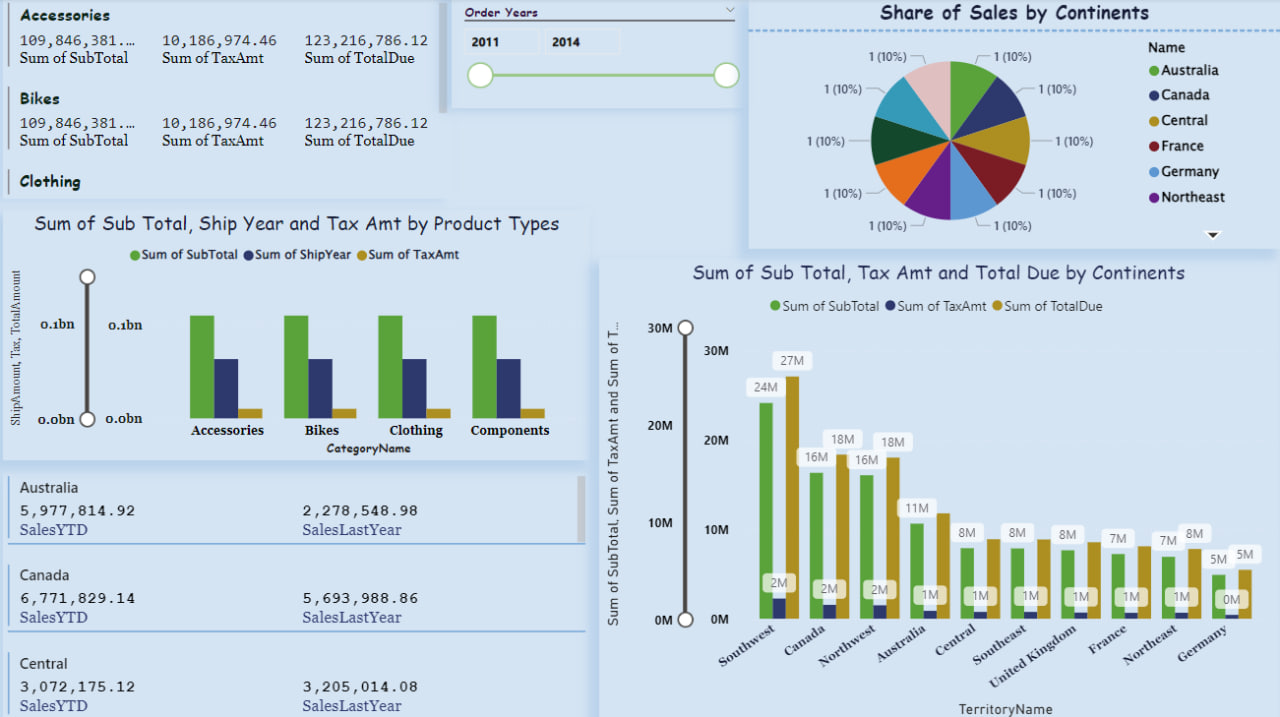

The page's visual inventory and layout, read from the dashboard file:
{"tool":"powerbi","page":{"name":"Product by Continent","canvas":[1280,720],"ordinal":2},"visuals":[{"type":"multiRowCard","fields":{"Values":["ProductCategories.CategoryName","Sum(SalesOrderAnalysis.SubTotal)","Sum(SalesOrderAnalysis.TaxAmt)","Sum(SalesOrderAnalysis.TotalDue)"]},"box":[9.7,0,446.4,200.3],"z":0},{"type":"slicer","fields":{"Values":["SalesOrderAnalysis.OrderYear"]},"box":[456,0,294.4,109.8],"z":1000},{"type":"lineClusteredColumnComboChart","title":"Sum of Sub Total, Ship Year and Tax Amt by Product Types","fields":{"Category":["ProductCategories.CategoryName"],"Y":["Sum(SalesOrderAnalysis.SubTotal)","Sum(SalesOrderAnalysis.ShipYear)","Sum(SalesOrderAnalysis.TaxAmt)"]},"box":[9.7,209.9,583.9,249.7],"z":2000},{"type":"pieChart","title":"Share of Sales by Continents","fields":{"Y":["CountNonNull(TerritorySalesData.SalesLastYear)"],"Category":["TerritorySalesData.Name"]},"box":[750.4,0,529.6,249.7],"z":3000},{"type":"multiRowCard","fields":{"Values":["TerritorySalesData.Name","TerritorySalesData.SalesYTD","TerritorySalesData.SalesLastYear"]},"box":[9.7,470.5,583.9,249.7],"z":4000},{"type":"lineClusteredColumnComboChart","title":"Sum of Sub Total, Tax Amt and Total Due by Continents","fields":{"Category":["SalesOrderAnalysis.TerritoryName"],"Y":["Sum(SalesOrderAnalysis.SubTotal)","Sum(SalesOrderAnalysis.TaxAmt)","Sum(SalesOrderAnalysis.TotalDue)"]},"box":[603.2,259.4,674.4,460.9],"z":5000}]}

Visuals, with their boxes in screenshot pixels (x1, y1, x2, y2), scaled from the page's 1280x720 canvas onto the 1280x717 screenshot:
multiRowCard - ProductCategories.CategoryName x Sum(SalesOrderAnalysis.SubTotal): Rect(10, 0, 456, 199)
slicer - SalesOrderAnalysis.OrderYear: Rect(456, 0, 750, 109)
"Sum of Sub Total, Ship Year and Tax Amt by Product Types" lineClusteredColumnComboChart: Rect(10, 209, 594, 458)
"Share of Sales by Continents" pieChart: Rect(750, 0, 1279, 249)
multiRowCard - TerritorySalesData.Name x TerritorySalesData.SalesYTD: Rect(10, 469, 594, 716)
"Sum of Sub Total, Tax Amt and Total Due by Continents" lineClusteredColumnComboChart: Rect(603, 258, 1278, 716)
